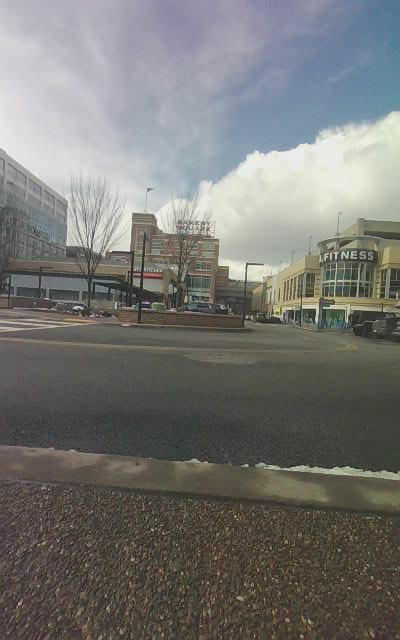curb: (0, 447, 399, 639)
road: (0, 321, 399, 477)
